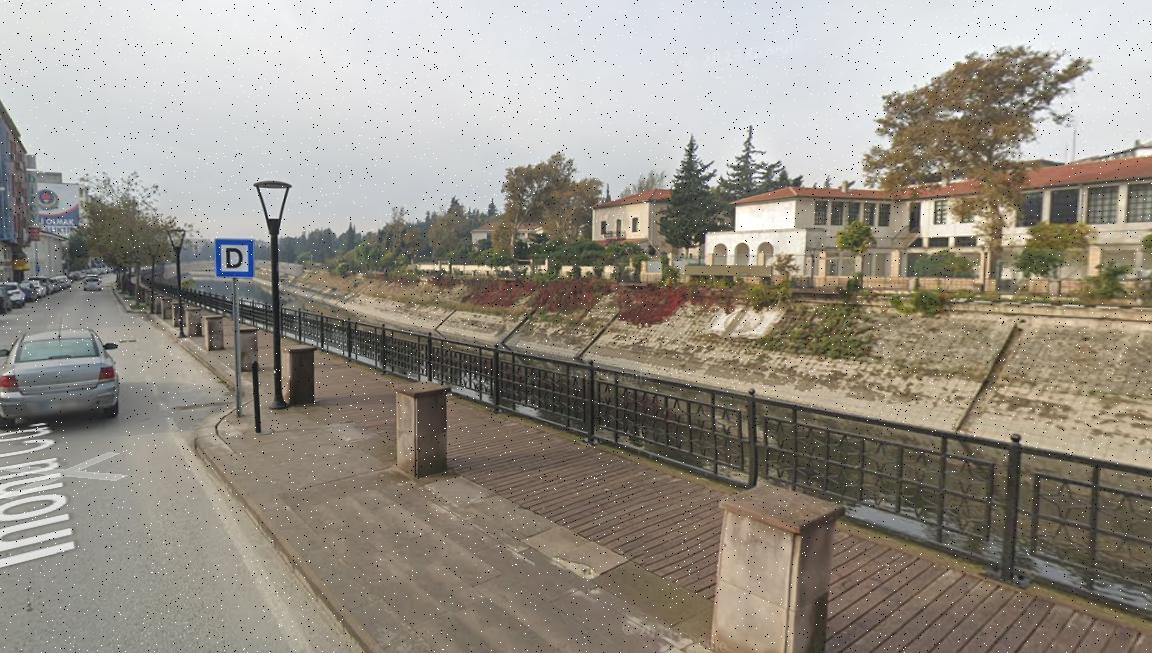station: (217, 243, 252, 275)
